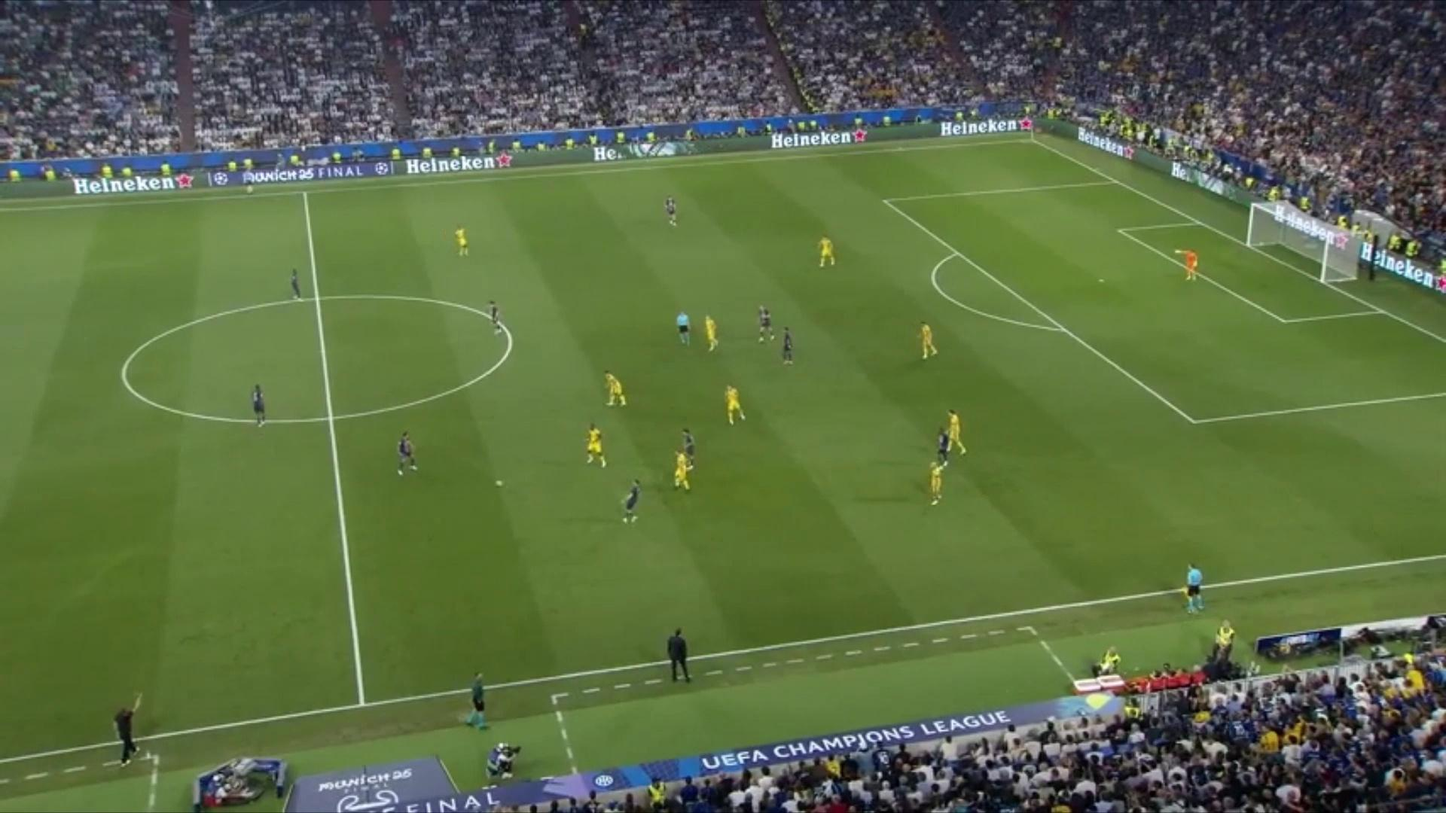ball: (495, 480, 504, 487)
player_A: (246, 381, 275, 428), (396, 428, 421, 479), (621, 478, 643, 524), (775, 323, 796, 367), (757, 302, 774, 343), (936, 424, 952, 467), (678, 427, 697, 462), (661, 195, 681, 228), (486, 302, 504, 336), (288, 266, 301, 306)
player_B: (600, 368, 628, 414), (721, 382, 746, 432), (944, 407, 968, 457), (579, 425, 604, 466), (929, 456, 947, 506), (916, 319, 938, 359), (670, 452, 691, 493), (814, 234, 839, 268), (449, 221, 471, 259), (701, 316, 721, 353)
player_B_goal_keeper: (1175, 241, 1200, 283)
referee: (469, 670, 493, 728), (1179, 560, 1204, 612), (676, 306, 695, 347), (240, 166, 255, 197)
